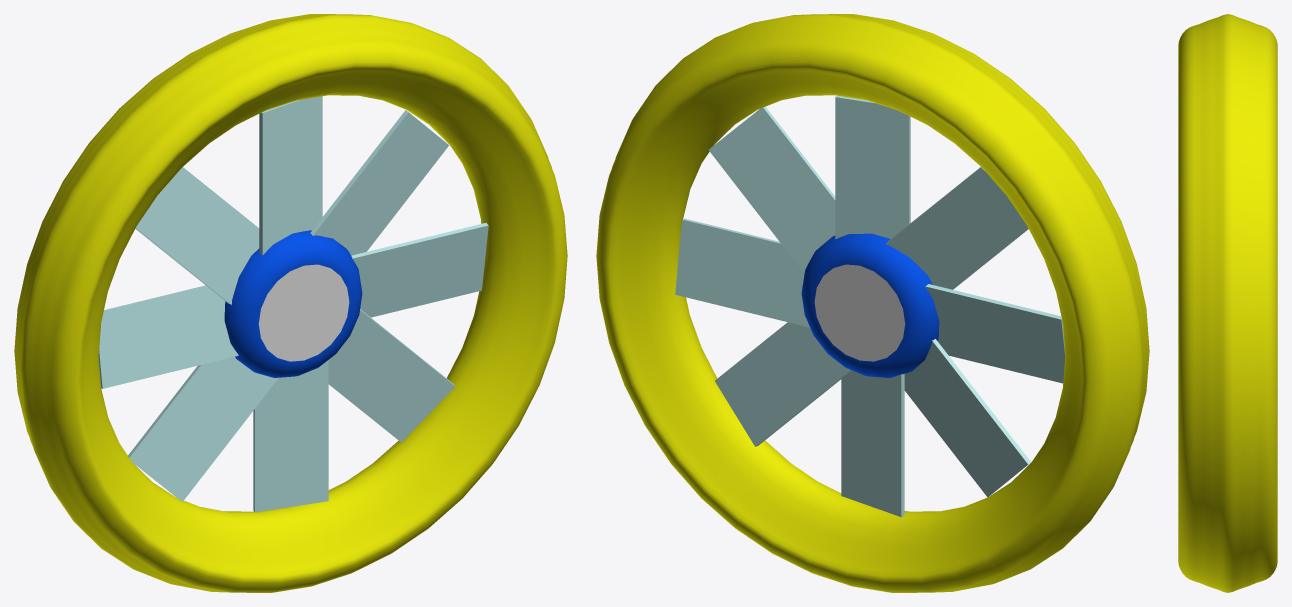
File: propeller.fbx
The picture shows the model from 3 angles, left to right: view 1: azimuth 30°, elevation 25°; view 2: azimuth 150°, elevation 25°; view 3: azimuth 270°, elevation 25°; orthographic projection. The views are drawn at different scales.
Visible parts, largest first — view 1: pTorus2, pCube4, pCube3, pCube5, pCube2, pCube6, pTorus1, pCube1, pCube7, pCube8, pCylinder1; view 2: pTorus2, pCube8, pCube1, pCube7, pCube2, pCube6, pTorus1, pCube3, pCube5, pCube4, pCylinder1; view 3: pTorus2.
Part boxes in pixels (<box>): pTorus2: <box>14,14,567,592</box>; pCube4: <box>128,356,278,501</box>; pCube3: <box>98,285,238,388</box>; pCube5: <box>253,360,328,512</box>; pCube2: <box>135,167,259,304</box>; pCube6: <box>328,309,455,442</box>; pTorus1: <box>224,230,362,377</box>; pCube1: <box>259,96,322,255</box>; pCube7: <box>351,223,488,317</box>; pCube8: <box>310,110,449,255</box>; pCylinder1: <box>258,264,349,361</box>; pTorus2: <box>596,14,1149,592</box>; pCube8: <box>708,106,835,273</box>; pCube1: <box>835,95,910,239</box>; pCube7: <box>675,218,809,327</box>; pCube2: <box>885,167,1028,289</box>; pCube6: <box>715,322,851,446</box>; pTorus1: <box>801,233,939,377</box>; pCube3: <box>925,284,1065,383</box>; pCube5: <box>841,370,904,517</box>; pCube4: <box>904,339,1030,497</box>; pCylinder1: <box>814,264,905,361</box>; pTorus2: <box>1178,14,1277,592</box>.
Size of the model in its own units: 11.84 by 11.84 by 2.03.
